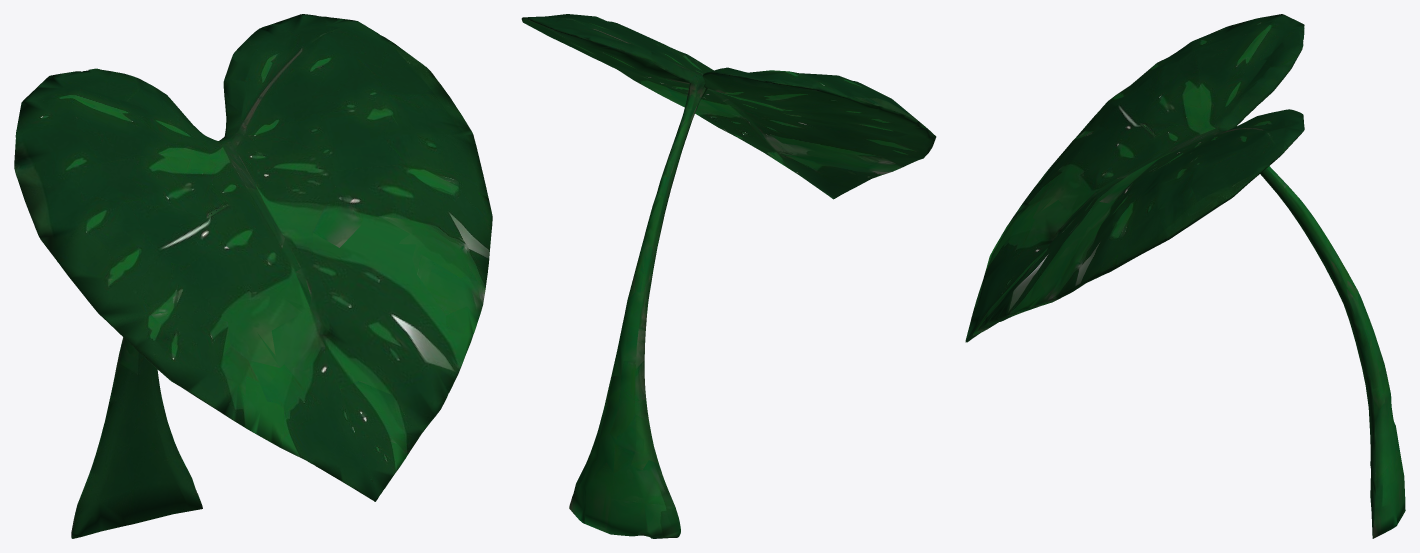
File: pp_leaf_mature.glb
3 views of the same model, side by side, from view 1: azimuth 30°, elevation 25°; view 2: azimuth 150°, elevation 25°; view 3: azimuth 270°, elevation 25° (orthographic). The views are drawn at different scales.
Bounding box in the file's own units: 1.68 × 1.9 × 1.74.
1 material, 1 textured.
